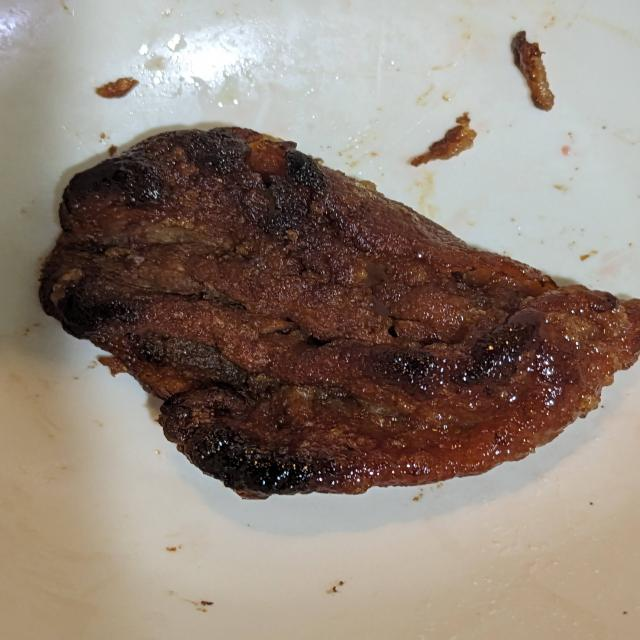overcooked pork: (10, 113, 640, 522)
